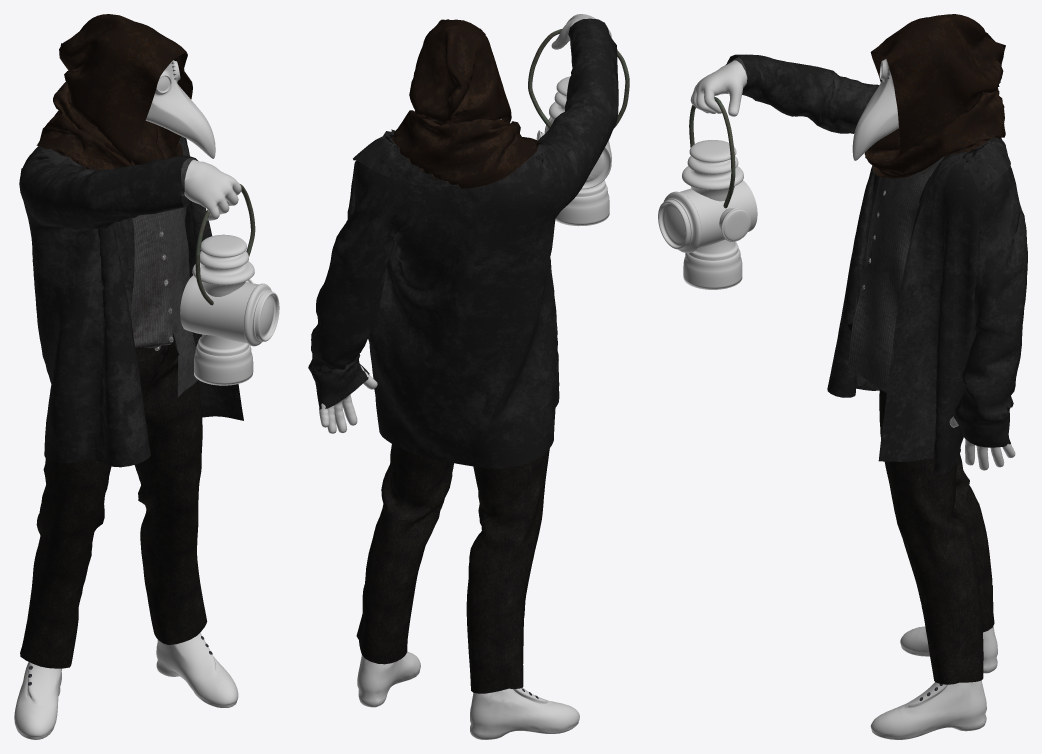
The picture shows the model from 3 angles, left to right: view 1: azimuth 30°, elevation 25°; view 2: azimuth 150°, elevation 25°; view 3: azimuth 270°, elevation 25°; orthographic projection.
Visible parts, largest first — view 1: Kabat_LP, Nohavice_LP, Kapuca_LP, Lampa_LP, Kosela_LP, Boty_LP, Sal_LP, Maska_LP, Rukavice_LP, PM3D_Cylinder3D1; view 2: Kabat_LP, Nohavice_LP, Kapuca_LP, Sal_LP, Boty_LP, Lampa_LP, Rukavice_LP, PM3D_Cylinder3D1; view 3: Kabat_LP, Nohavice_LP, Kapuca_LP, Lampa_LP, Kosela_LP, Boty_LP, Sal_LP, Rukavice_LP, Maska_LP, PM3D_Cylinder3D1.
Boxes of the visible parts, x1=… form: Kabat_LP: x1=19, y1=133, x2=243, y2=467; Nohavice_LP: x1=20, y1=335, x2=207, y2=668; Kapuca_LP: x1=59, y1=14, x2=192, y2=165; Lampa_LP: x1=180, y1=234, x2=279, y2=385; Kosela_LP: x1=130, y1=157, x2=197, y2=397; Boty_LP: x1=14, y1=633, x2=238, y2=739; Sal_LP: x1=36, y1=82, x2=182, y2=170; Maska_LP: x1=145, y1=60, x2=215, y2=158; Rukavice_LP: x1=184, y1=159, x2=241, y2=220; PM3D_Cylinder3D1: x1=195, y1=184, x2=255, y2=305; Kabat_LP: x1=308, y1=18, x2=618, y2=468; Nohavice_LP: x1=356, y1=444, x2=549, y2=693; Kapuca_LP: x1=409, y1=19, x2=511, y2=125; Sal_LP: x1=393, y1=110, x2=539, y2=188; Boty_LP: x1=357, y1=652, x2=579, y2=739; Lampa_LP: x1=536, y1=76, x2=611, y2=226; Rukavice_LP: x1=319, y1=14, x2=611, y2=433; PM3D_Cylinder3D1: x1=528, y1=29, x2=629, y2=128; Kabat_LP: x1=727, y1=54, x2=1027, y2=474; Nohavice_LP: x1=847, y1=323, x2=994, y2=684; Kapuca_LP: x1=870, y1=14, x2=1005, y2=154; Lampa_LP: x1=658, y1=140, x2=757, y2=289; Kosela_LP: x1=726, y1=57, x2=988, y2=393; Boty_LP: x1=870, y1=626, x2=997, y2=739; Sal_LP: x1=864, y1=87, x2=1005, y2=178; Rukavice_LP: x1=690, y1=60, x2=1015, y2=470; Maska_LP: x1=852, y1=59, x2=898, y2=160; PM3D_Cylinder3D1: x1=689, y1=97, x2=735, y2=208.
Size of the model in its own units: 0.7052 by 2 by 0.9823.
